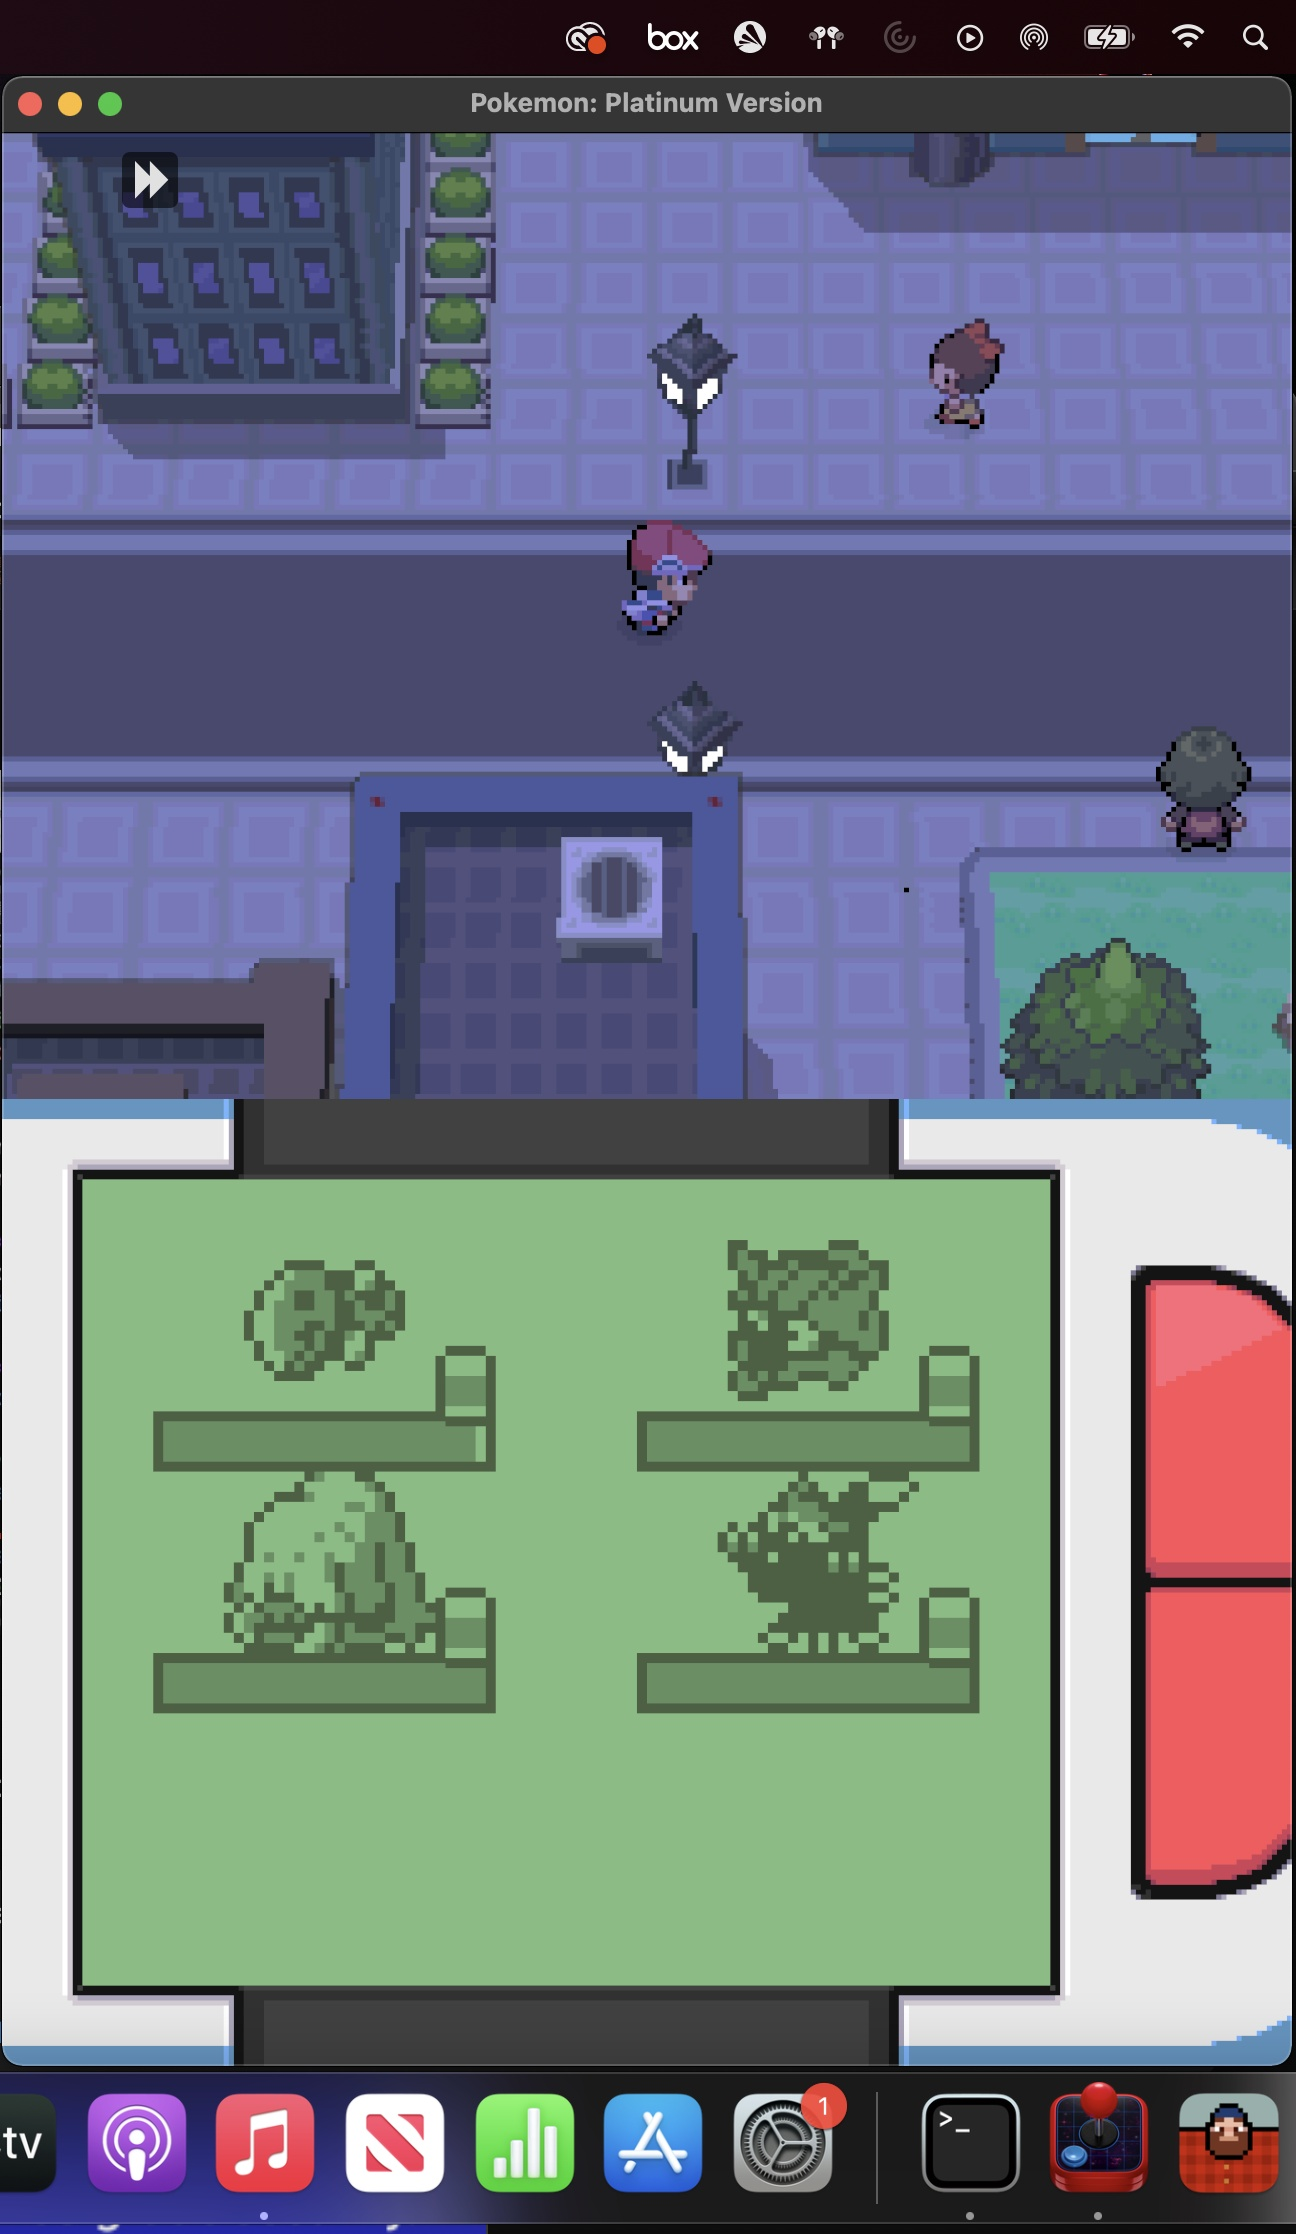player: (608, 517, 713, 643)
